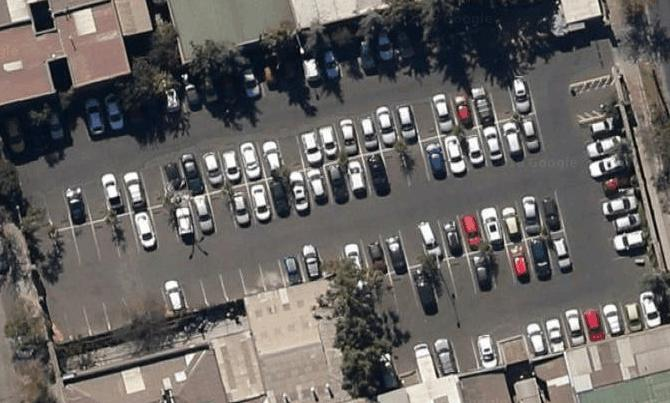parkingspot: (51, 111, 548, 272), (41, 75, 537, 233), (3, 19, 419, 161), (61, 244, 329, 342), (339, 186, 567, 286), (387, 228, 577, 316), (577, 113, 654, 262), (522, 288, 664, 359), (429, 329, 503, 379)
